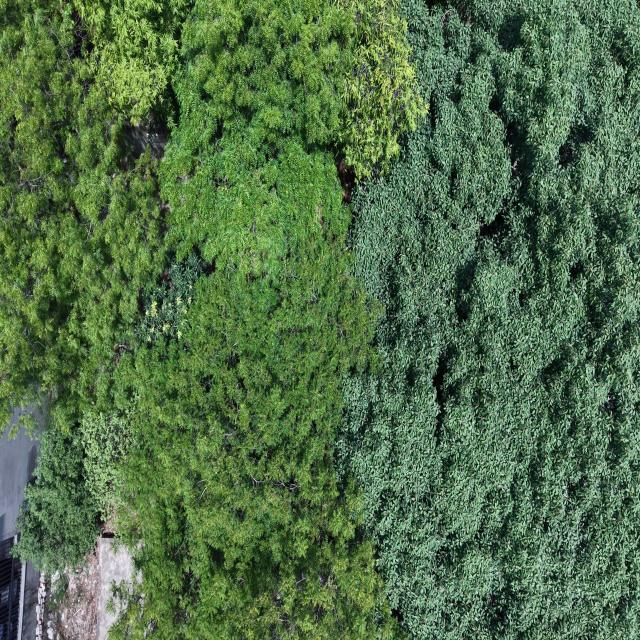VEGETATION_TREE: (0, 0, 639, 639), (5, 3, 394, 637), (343, 2, 639, 639), (118, 3, 393, 637), (119, 143, 392, 638), (0, 0, 200, 429), (0, 0, 165, 432), (75, 0, 426, 174), (171, 0, 425, 179), (16, 410, 134, 575), (338, 0, 428, 178), (71, 0, 192, 124), (17, 430, 99, 574), (77, 405, 136, 522), (137, 253, 204, 343)
